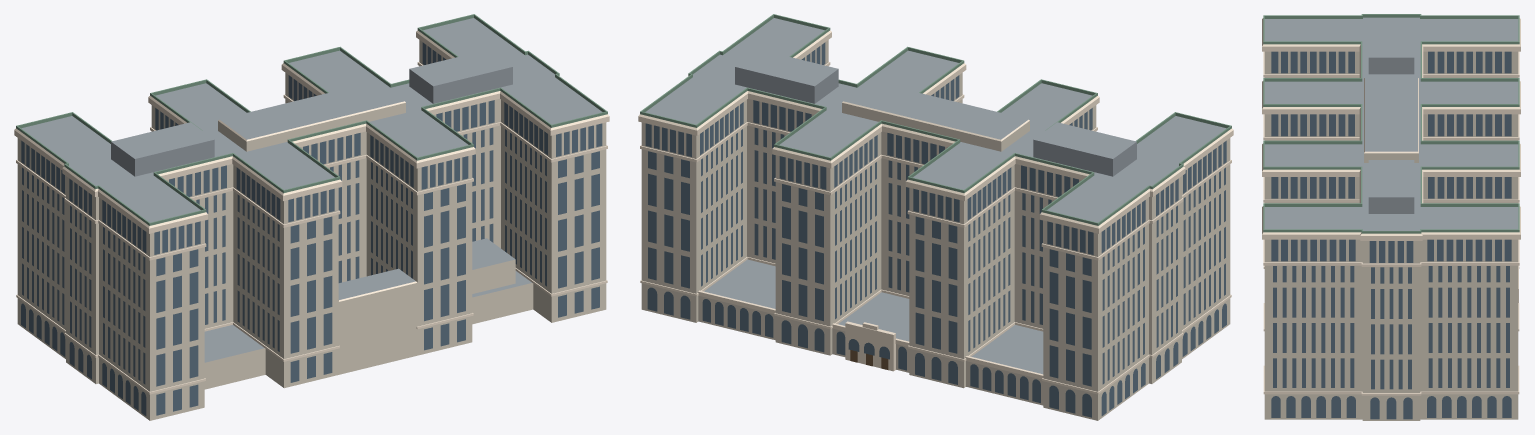
The model's file is det-cadillac-place.glb.
The picture shows the model from 3 angles, left to right: view 1: azimuth 30°, elevation 25°; view 2: azimuth 150°, elevation 25°; view 3: azimuth 270°, elevation 25°; orthographic projection. The views are drawn at different scales.
Visible parts, largest first — view 1: Cadillac Place; view 2: Cadillac Place; view 3: Cadillac Place.
Boxes of the visible parts, left/top/right/bottom form: Cadillac Place: left=14, top=14, right=609, bottom=420; Cadillac Place: left=638, top=14, right=1233, bottom=420; Cadillac Place: left=1262, top=14, right=1520, bottom=420.
Size of the model in its own units: 158 by 68.8 by 79.1.
